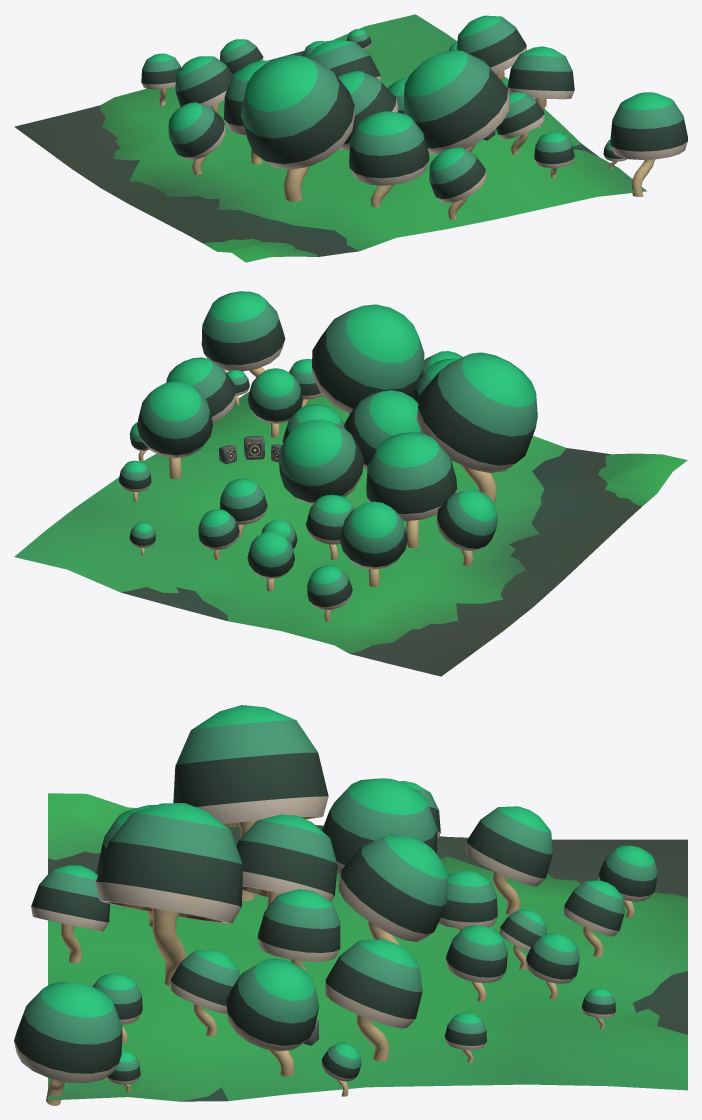
The model's file is LevelB3.fbx.
3 renders of one model, top to bottom at view 1: azimuth 30°, elevation 25°; view 2: azimuth 150°, elevation 25°; view 3: azimuth 270°, elevation 25°, orthographic. The views are drawn at different scales.
Parts seen in each view (by area): view 1: GroundB3, MushroomA.017, MushroomA.018, MushroomB.020, MushroomB.039, MushroomA.019, MushroomA.023, MushroomA.026, MushroomA.039, MushroomA.021, MushroomA.027, MushroomA.020 (+5 smaller); view 2: GroundB3, MushroomA.017, MushroomA.018, MushroomB.022, MushroomA.020, MushroomB.039, MushroomA.023, MushroomA.021, MushroomA.027, MushroomA.026, MushroomA.042, MushroomA.019 (+9 smaller); view 3: GroundB3, MushroomA.018, MushroomA.017, MushroomB.039, MushroomA.020, MushroomA.023, MushroomA.019, MushroomA.027, MushroomB.022, MushroomA.021, MushroomB.041, MushroomA.039 (+13 smaller).
Part boxes in pixels (left/top/right/bottom): GroundB3: left=14, top=14, right=646, bottom=262; MushroomA.017: left=241, top=55, right=354, bottom=201; MushroomA.018: left=404, top=50, right=509, bottom=154; MushroomB.020: left=349, top=111, right=429, bottom=207; MushroomB.039: left=610, top=92, right=687, bottom=196; MushroomA.019: left=507, top=46, right=574, bottom=127; MushroomA.023: left=456, top=15, right=526, bottom=81; MushroomA.026: left=168, top=102, right=225, bottom=174; MushroomA.039: left=429, top=147, right=486, bottom=219; MushroomA.021: left=175, top=56, right=233, bottom=113; MushroomA.027: left=338, top=71, right=398, bottom=149; MushroomA.020: left=307, top=39, right=380, bottom=81; GroundB3: left=14, top=391, right=687, bottom=676; MushroomA.017: left=416, top=352, right=537, bottom=503; MushroomA.018: left=312, top=304, right=424, bottom=413; MushroomB.022: left=366, top=432, right=457, bottom=547; MushroomA.020: left=279, top=419, right=363, bottom=504; MushroomB.039: left=201, top=291, right=285, bottom=377; MushroomA.023: left=137, top=381, right=212, bottom=479; MushroomA.021: left=340, top=501, right=407, bottom=586; MushroomA.027: left=344, top=390, right=421, bottom=469; MushroomA.026: left=436, top=489, right=497, bottom=565; MushroomA.042: left=247, top=368, right=302, bottom=437; MushroomA.019: left=166, top=357, right=235, bottom=422; GroundB3: left=48, top=793, right=687, bottom=1101; MushroomA.018: left=96, top=803, right=242, bottom=986; MushroomA.017: left=173, top=705, right=328, bottom=901; MushroomB.039: left=14, top=982, right=122, bottom=1105; MushroomA.020: left=338, top=834, right=448, bottom=945; MushroomA.023: left=325, top=939, right=422, bottom=1061; MushroomA.019: left=225, top=958, right=319, bottom=1076; MushroomA.027: left=236, top=814, right=337, bottom=907; MushroomB.022: left=322, top=778, right=437, bottom=874; MushroomA.021: left=466, top=806, right=552, bottom=914; MushroomB.041: left=257, top=889, right=340, bottom=971; MushroomA.039: left=31, top=865, right=110, bottom=963.
Size of the model in its own units: 10030 by 3261 by 9536.
